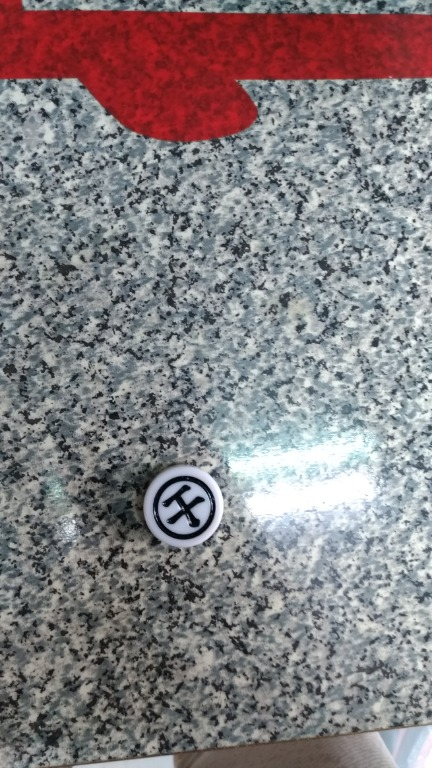b-advisor: (120, 455, 244, 563)
